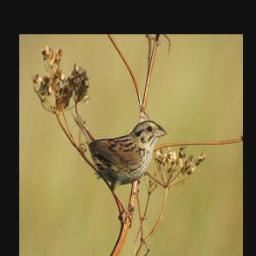Sparrow: (68, 108, 169, 228)
